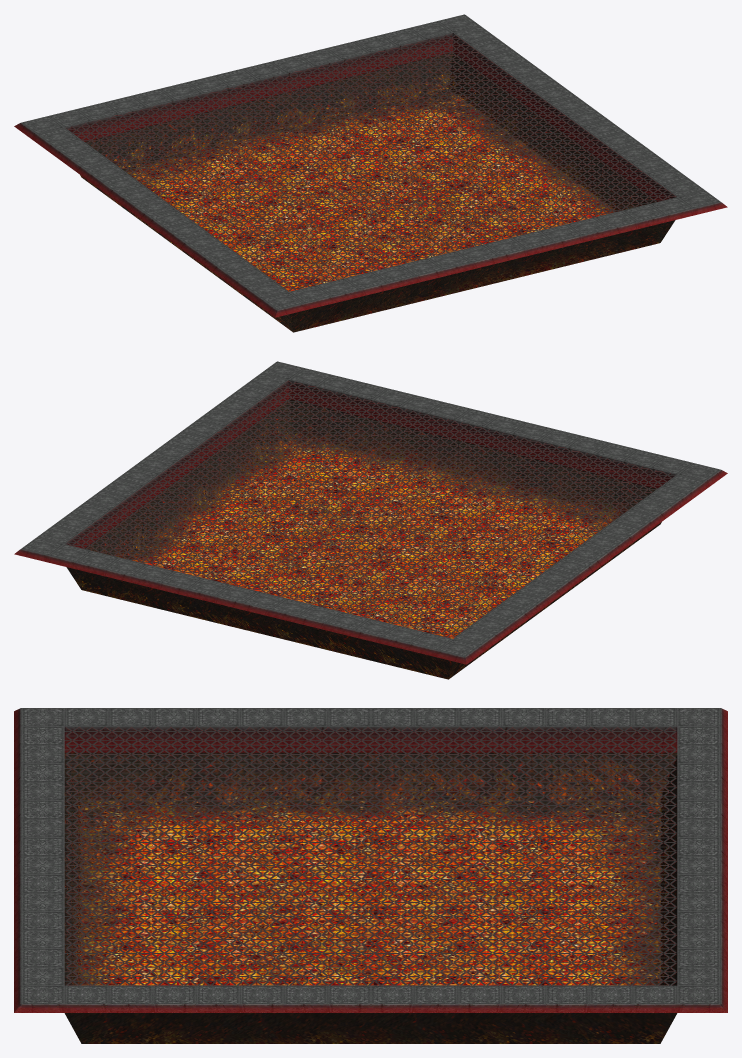
Rendered from otherworld_floor_01_height.fbx.
3 views of the same model, one above another, from view 1: azimuth 30°, elevation 25°; view 2: azimuth 150°, elevation 25°; view 3: azimuth 270°, elevation 25° (orthographic). The views are drawn at different scales.
Visible parts, largest first — view 1: otherworld_floor_01_h, otherworld_floor_01_h_02; view 2: otherworld_floor_01_h, otherworld_floor_01_h_02; view 3: otherworld_floor_01_h, otherworld_floor_01_h_02.
Boxes of the visible parts, x1,y1,x2,y2 form: otherworld_floor_01_h: (14,14,727,317); otherworld_floor_01_h_02: (80,52,675,332); otherworld_floor_01_h: (14,361,727,664); otherworld_floor_01_h_02: (66,399,661,679); otherworld_floor_01_h: (14,708,727,1012); otherworld_floor_01_h_02: (64,752,677,1043).
Bounding box in the file's own units: 32.62 × 3.3 × 32.62.
